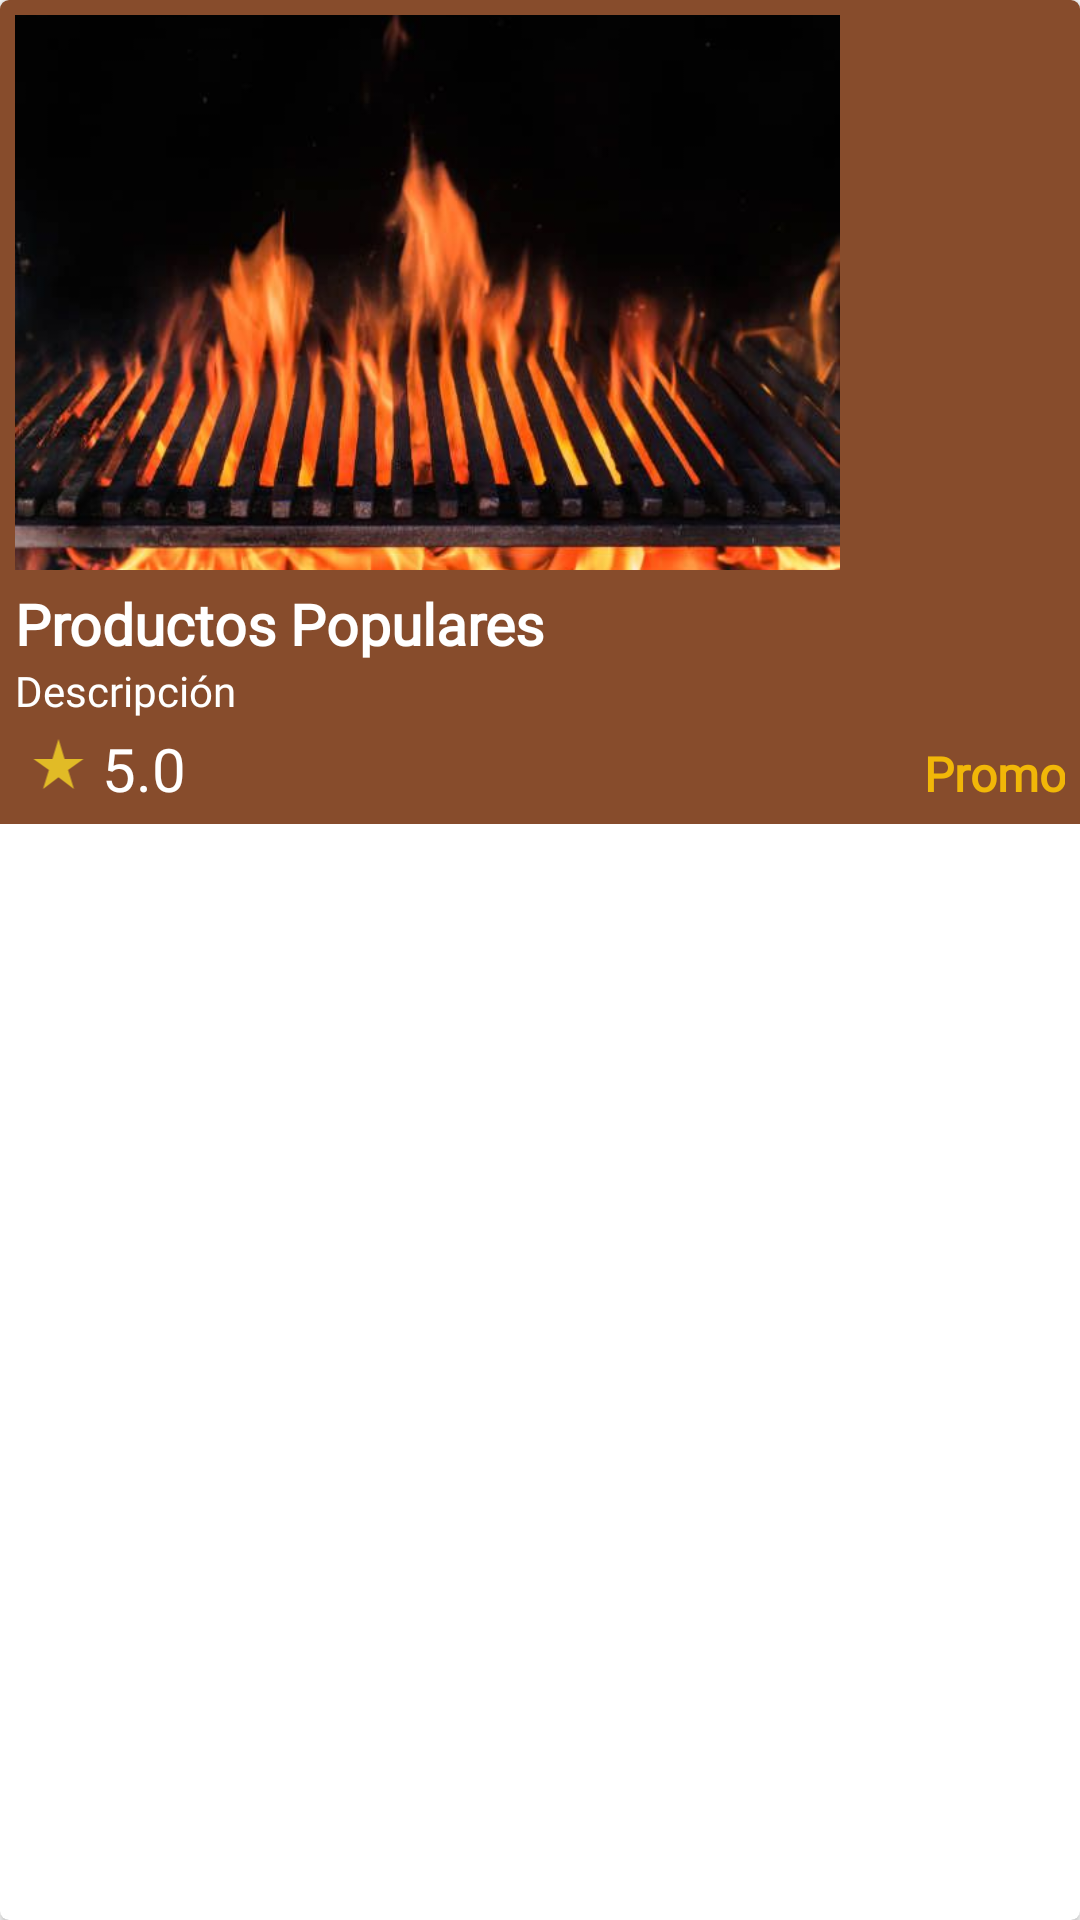

Icon click points for this 1080px x 1920px phone screenshot, format point (x, y):
star: point (58, 764)
